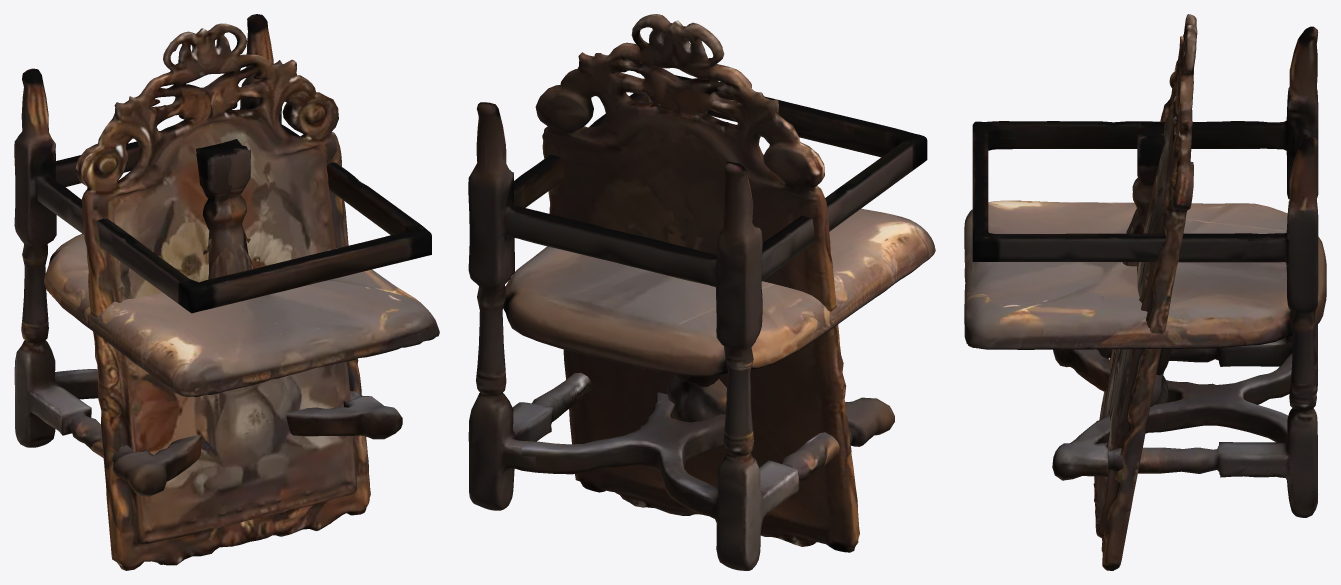
The picture shows the model from 3 angles, left to right: view 1: azimuth 30°, elevation 25°; view 2: azimuth 150°, elevation 25°; view 3: azimuth 270°, elevation 25°; orthographic projection. The views are drawn at different scales.
Visible parts, largest first — view 1: root.0, root.1, root.2, root.4, root.5; view 2: root.0, root.1, root.2, root.5, root.4; view 3: root.1, root.2, root.0, root.5, root.4.
Boxes of the visible parts, x1,y1,x2,y2 form: root.0: (75,23,370,570); root.1: (14,14,431,496); root.2: (44,233,439,396); root.4: (196,142,254,272); root.5: (208,139,250,279); root.0: (535,14,859,552); root.1: (468,75,927,570); root.2: (503,208,935,376); root.5: (674,374,726,422); root.4: (666,122,728,422); root.1: (972,26,1318,517); root.2: (964,200,1326,349); root.0: (1093,14,1197,570); root.5: (1126,128,1171,390); root.4: (1122,122,1168,406).
Bounding box in the file's own units: 14402 × 25105 × 16701.
1 material, 1 textured.
